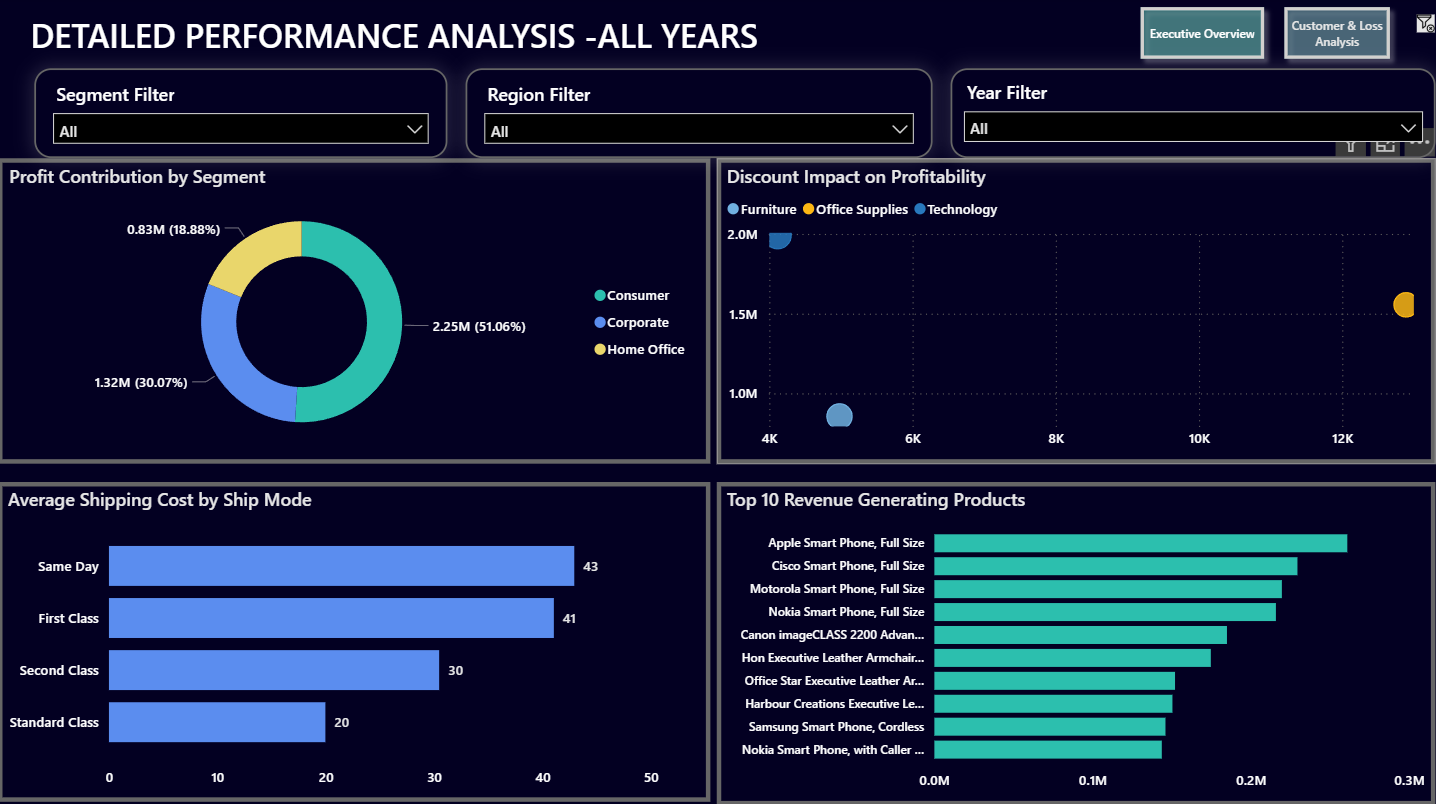

What the dashboard file says about the page in this screenshot:
{"tool":"powerbi","page":{"name":"Performance Analysis","canvas":[1280,720],"ordinal":1},"visuals":[{"type":"donutChart","title":"Profit Contribution by Segment","fields":{"Category":["ecommerce_db superstore.segment"],"Y":["Sum(ecommerce_db superstore.profit)"]},"box":[0,144,634,272],"z":0},{"type":"scatterChart","title":"Discount Impact on Profitability","fields":{"X":["Sum(ecommerce_db superstore.discount)"],"Y":["Sum(ecommerce_db superstore.profit)"],"Size":["Sum(ecommerce_db superstore.sales)"],"Series":["ecommerce_db superstore.category"]},"box":[640,144,640,272],"z":1000},{"type":"clusteredBarChart","title":"Average Shipping Cost by Ship Mode","fields":{"Category":["ecommerce_db superstore.ship_mode"],"Y":["Avg(ecommerce_db superstore.shipping_cost)"]},"box":[0,432,634,285],"z":2000},{"type":"clusteredBarChart","title":"Top 10 Revenue Generating Products","fields":{"Category":["ecommerce_db superstore.product_name"],"Y":["Sum(ecommerce_db superstore.sales)"]},"box":[640,432,640,288],"z":3000},{"type":"slicer","fields":{"Values":["ecommerce_db superstore.Year"]},"box":[848,64,432,80],"z":4000},{"type":"slicer","fields":{"Values":["ecommerce_db superstore.Region"]},"box":[416,64,416,80],"z":5000},{"type":"slicer","fields":{"Values":["ecommerce_db superstore.Segment"]},"box":[32,64,368,80],"z":6000},{"type":"actionButton","box":[1008,0,128,64],"z":7000},{"type":"actionButton","box":[1136,0,112,64],"z":8000},{"type":"cardVisual","fields":{"Data":["ecommerce_db superstore.Title 2"]},"box":[0,0,864,64],"z":9000},{"type":"image","box":[1264,16,16,16],"z":10000}]}

Visuals, with their boxes in screenshot pixels (x1, y1, x2, y2), scaled from the page's 1280x720 canvas onto the 1436x804 screenshot:
"Profit Contribution by Segment" donutChart: detection(0, 161, 711, 465)
"Discount Impact on Profitability" scatterChart: detection(718, 161, 1435, 465)
"Average Shipping Cost by Ship Mode" clusteredBarChart: detection(0, 482, 711, 801)
"Top 10 Revenue Generating Products" clusteredBarChart: detection(718, 482, 1435, 803)
slicer - ecommerce_db superstore.Year: detection(951, 71, 1435, 161)
slicer - ecommerce_db superstore.Region: detection(467, 71, 933, 161)
slicer - ecommerce_db superstore.Segment: detection(36, 71, 449, 161)
actionButton: detection(1131, 0, 1274, 71)
actionButton: detection(1274, 0, 1400, 71)
cardVisual - ecommerce_db superstore.Title 2: detection(0, 0, 969, 71)
image: detection(1418, 18, 1435, 36)
